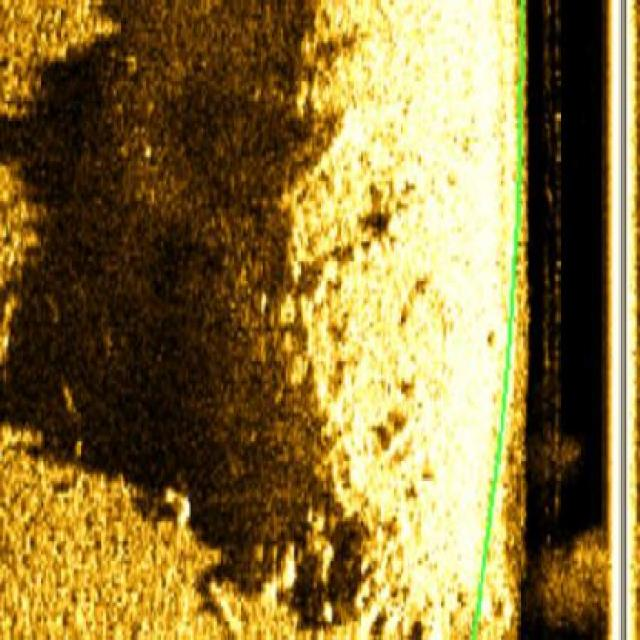bedrock group: (0, 0, 514, 638)
